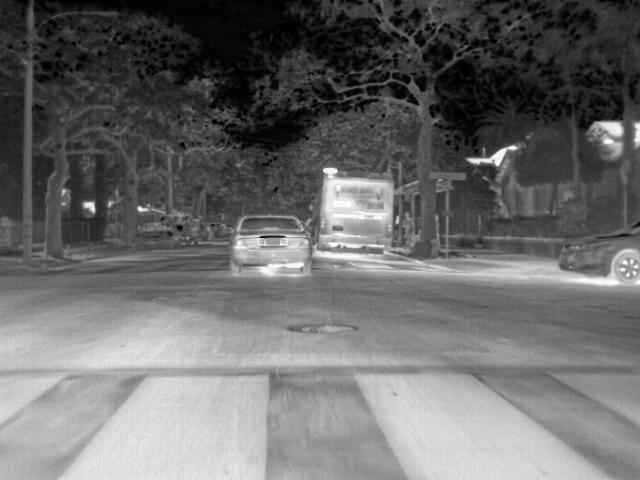car: (558, 216, 639, 286), (229, 212, 313, 278), (138, 222, 176, 250), (174, 216, 196, 244), (197, 222, 214, 243), (214, 221, 231, 238)
person: (401, 209, 413, 242)
